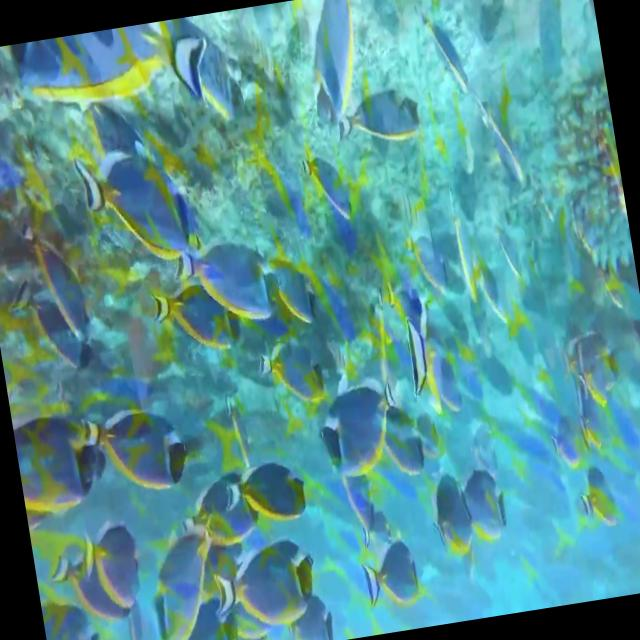fish: (5, 14, 222, 144), (71, 130, 204, 286), (167, 215, 285, 339), (78, 396, 198, 512), (139, 502, 234, 640), (207, 534, 327, 636), (292, 0, 378, 142), (11, 400, 113, 518), (145, 256, 249, 370), (316, 367, 416, 481), (10, 265, 100, 390), (42, 528, 140, 640), (24, 213, 99, 354), (394, 302, 472, 426), (217, 448, 315, 546), (246, 314, 334, 418), (326, 75, 428, 161), (82, 520, 152, 620), (354, 532, 424, 616), (298, 143, 359, 237), (460, 455, 516, 549), (423, 462, 474, 562), (564, 459, 628, 531), (282, 592, 339, 640)
